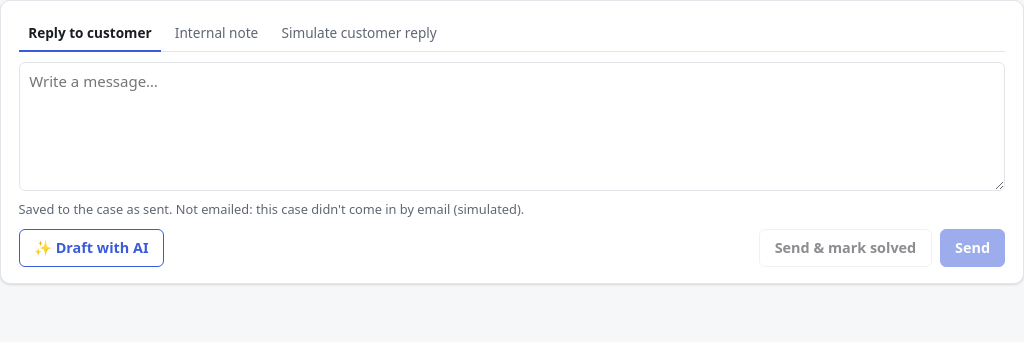
Test: ReplyComposer: Draft with AI › shows why drafting isn't available
The width and height of the screenshot is (1024, 342).
Click the button "✨ Draft with AI" at (91, 248), box x1=19 y1=229 x2=164 y2=267
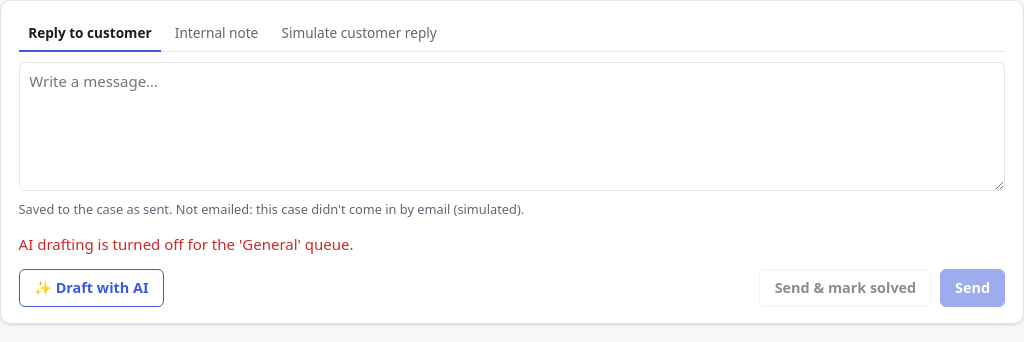
Result: the message shows "turned off for the 'General' queue" at x1=19 y1=234 x2=354 y2=254
